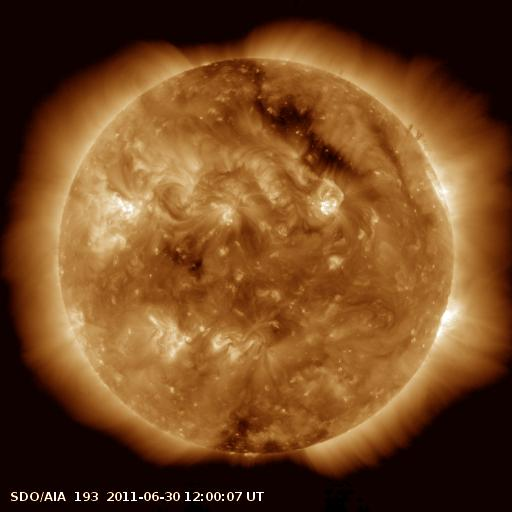coronal_hole: (250, 89, 358, 176), (200, 415, 297, 462)
